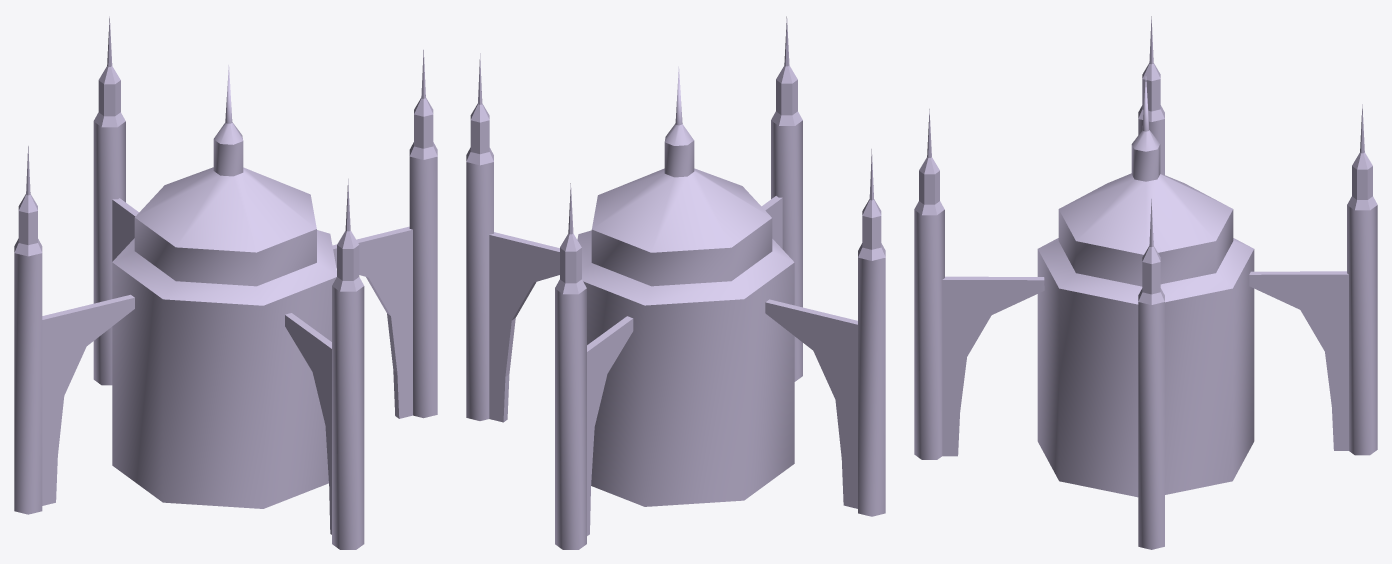
3 views of the same model, side by side, from view 1: azimuth 30°, elevation 25°; view 2: azimuth 150°, elevation 25°; view 3: azimuth 270°, elevation 25° (orthographic). The views are drawn at different scales.
Parts seen in each view (by area): view 1: Object13; view 2: Object13; view 3: Object13.
Part boxes in pixels (bbox=[...]): Object13: bbox=[14, 16, 437, 549]; Object13: bbox=[466, 16, 885, 549]; Object13: bbox=[914, 16, 1377, 549].
Bounding box in the file's own units: 970 × 874 × 970.
